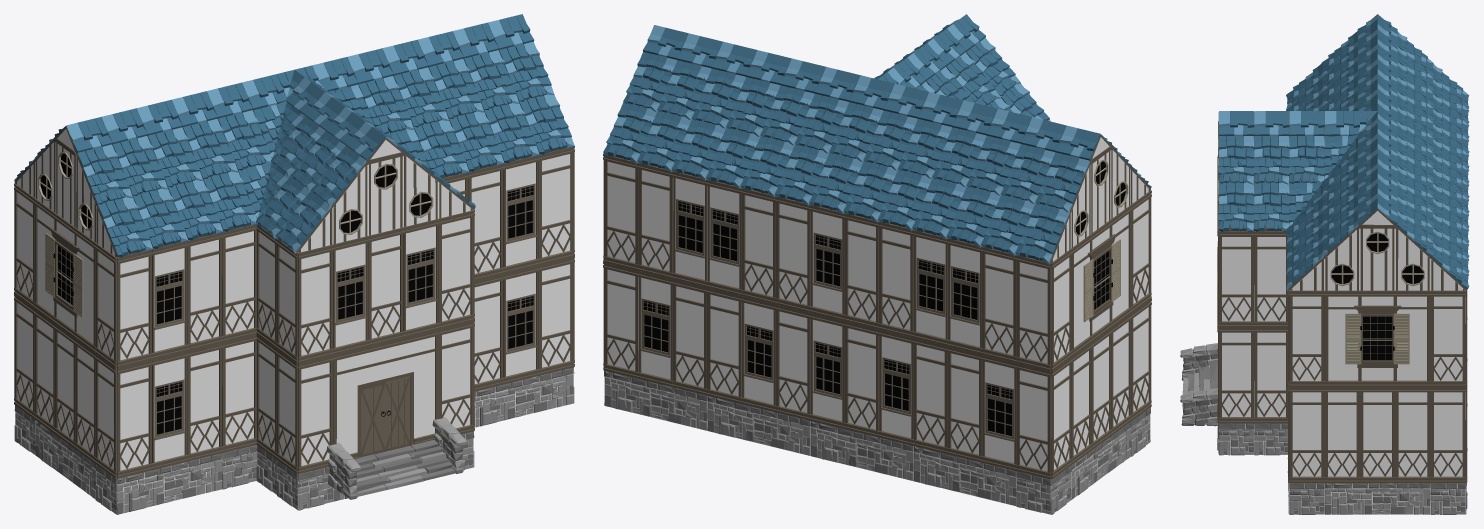
Rendered from House_16_full.glb.
3 renders of one model, left to right at view 1: azimuth 30°, elevation 25°; view 2: azimuth 150°, elevation 25°; view 3: azimuth 270°, elevation 25°, orthographic. The views are drawn at different scales.
Parts seen in each view (by area): view 1: DOOR_03_2, WINDOW_07_3, STAIRS_02_2, WINDOW_04_5, WALL_01_14, WALL_01_16, WALL_01_15, WINDOW_04_6, WINDOW_04_4, WINDOW_04_11, WALL_01_40, WALL_01_12 (+87 smaller); view 2: WINDOW_07_3, WALL_01_28, WALL_01_53, WALL_01_24, WALL_01_55, WALL_01_27, WALL_01_25, WALL_01_49, WINDOW_04_17, WALL_01_56, WALL_01_30, WINDOW_04_16 (+81 smaller); view 3: WINDOW_07_4, WALL_01_43, WALL_01_42, WALL_01_47, WALL_01_44, WALL_01_48, WALL_01_45, WALL_01_46, FOUNDATION_02_34, WALL_01_34, WALL_01_33, WALL_01_35 (+69 smaller).
Boxes of the visible parts, <box> form: DOOR_03_2: <box>333,330,439,459</box>; WINDOW_07_3: <box>34,198,96,352</box>; STAIRS_02_2: <box>327,417,466,499</box>; WINDOW_04_5: <box>403,219,439,337</box>; WALL_01_14: <box>298,244,333,363</box>; WALL_01_16: <box>438,210,474,329</box>; WALL_01_15: <box>368,227,404,346</box>; WINDOW_04_6: <box>333,236,368,355</box>; WINDOW_04_4: <box>152,242,187,359</box>; WINDOW_04_11: <box>503,156,539,273</box>; WALL_01_40: <box>538,148,574,265</box>; WALL_01_12: <box>187,233,222,351</box>; WINDOW_07_3: <box>1071,205,1131,356</box>; WALL_01_28: <box>1016,255,1051,371</box>; WALL_01_53: <box>775,196,810,312</box>; WALL_01_24: <box>1016,363,1051,479</box>; WALL_01_55: <box>638,162,673,278</box>; WALL_01_27: <box>844,321,879,437</box>; WALL_01_25: <box>947,346,982,462</box>; WALL_01_49: <box>775,304,810,420</box>; WINDOW_04_17: <box>706,179,741,295</box>; WALL_01_56: <box>603,154,638,270</box>; WALL_01_30: <box>878,221,913,337</box>; WINDOW_04_16: <box>810,204,844,320</box>; WINDOW_07_4: <box>1324,290,1430,387</box>; WALL_01_43: <box>1289,290,1324,387</box>; WALL_01_42: <box>1430,290,1465,387</box>; WALL_01_47: <box>1395,387,1430,483</box>; WALL_01_44: <box>1289,387,1324,483</box>; WALL_01_48: <box>1430,387,1465,483</box>; WALL_01_45: <box>1324,387,1359,483</box>; WALL_01_46: <box>1360,387,1395,483</box>; FOUNDATION_02_34: <box>1324,483,1430,514</box>; WALL_01_34: <box>1219,327,1253,423</box>; WALL_01_33: <box>1219,231,1253,327</box>; WALL_01_35: <box>1254,327,1288,423</box>.
Size of the model in its own units: 13.17 by 9.59 by 8.19.
1 material, 1 textured.
